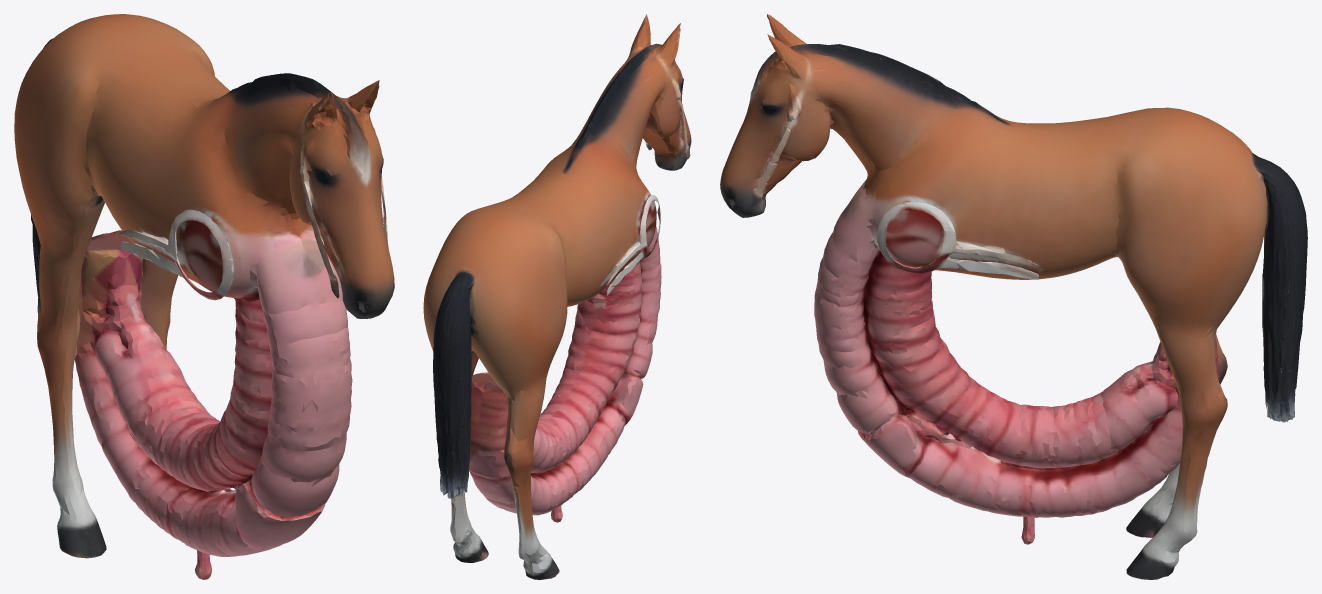
File: horse_intestines.glb
3 views of the same model, side by side, from view 1: azimuth 30°, elevation 25°; view 2: azimuth 150°, elevation 25°; view 3: azimuth 270°, elevation 25° (orthographic). The views are drawn at different scales.
Visible parts, largest first — view 1: model; view 2: model; view 3: model.
Part boxes in pixels (left/top/right/bottom): model: left=14, top=14, right=394, bottom=579; model: left=423, top=14, right=691, bottom=579; model: left=720, top=14, right=1307, bottom=579.
Size of the model in its own units: 0.526 by 1.86 by 1.88.
Materials: 1 (1 with a texture image).
